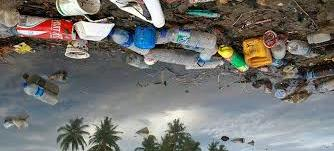Plastic: (19, 76, 71, 115), (143, 44, 204, 76), (162, 22, 223, 54), (108, 26, 154, 57)
